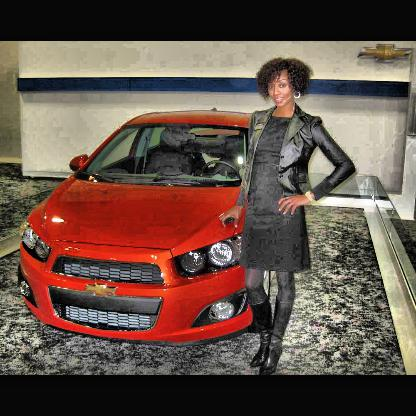Chevrolet Sonic Sedan 2012: (20, 108, 305, 343)
